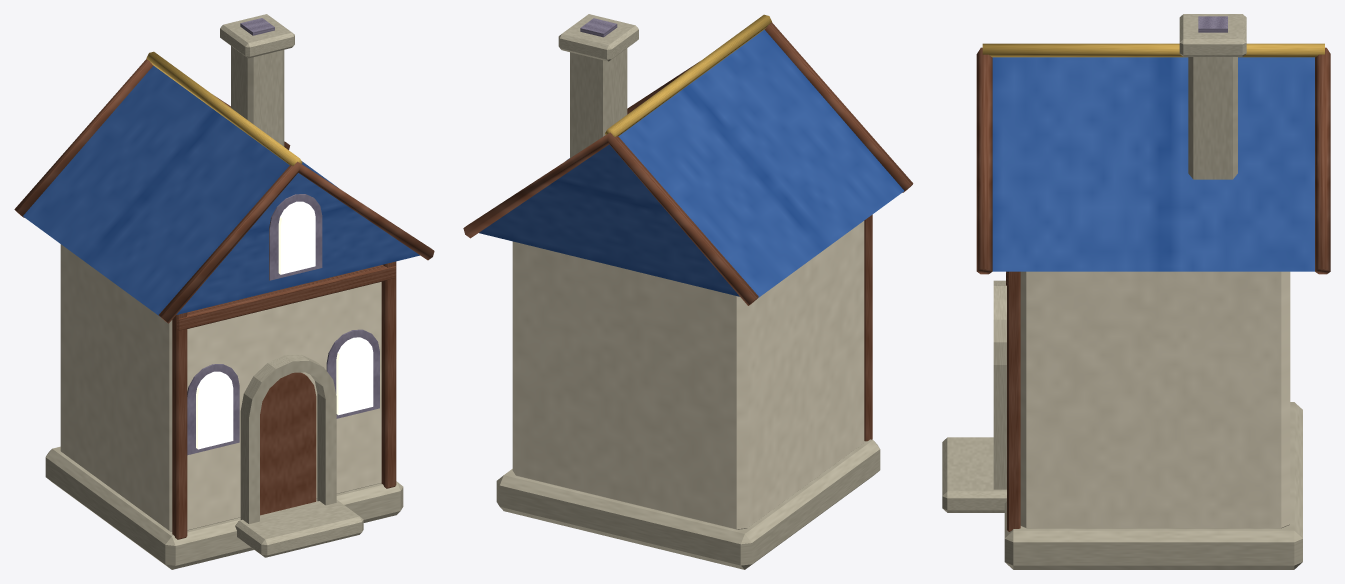
The model's file is fantasy-house-low.glb.
3 views of the same model, side by side, from view 1: azimuth 30°, elevation 25°; view 2: azimuth 150°, elevation 25°; view 3: azimuth 270°, elevation 25° (orthographic). The views are drawn at different scales.
Parts seen in each view (by area): view 1: fantasy-house; view 2: fantasy-house; view 3: fantasy-house.
Boxes of the visible parts, <box> form: fantasy-house: <box>14,14,434,569</box>; fantasy-house: <box>463,14,913,569</box>; fantasy-house: <box>942,14,1330,569</box>.
Size of the model in its own units: 1.87 by 2.88 by 1.96.
7 materials, 7 textured.
